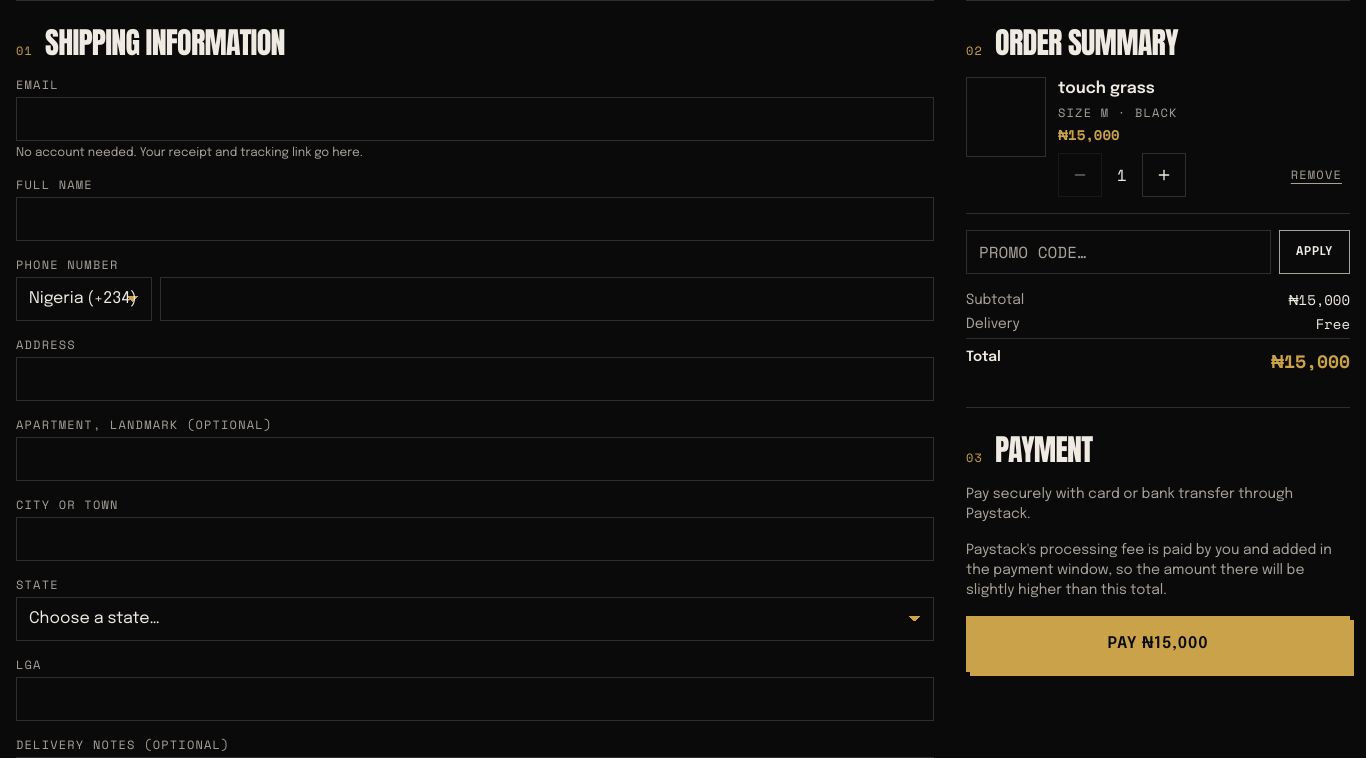
Scenario: CheckoutPage › edits the cart from checkout and re-quotes the total
The image size is (1366, 758).
Step 1. Click the button named "Increase quantity of touch grass" → (1164, 175), box x1=1142 y1=153 x2=1186 y2=197
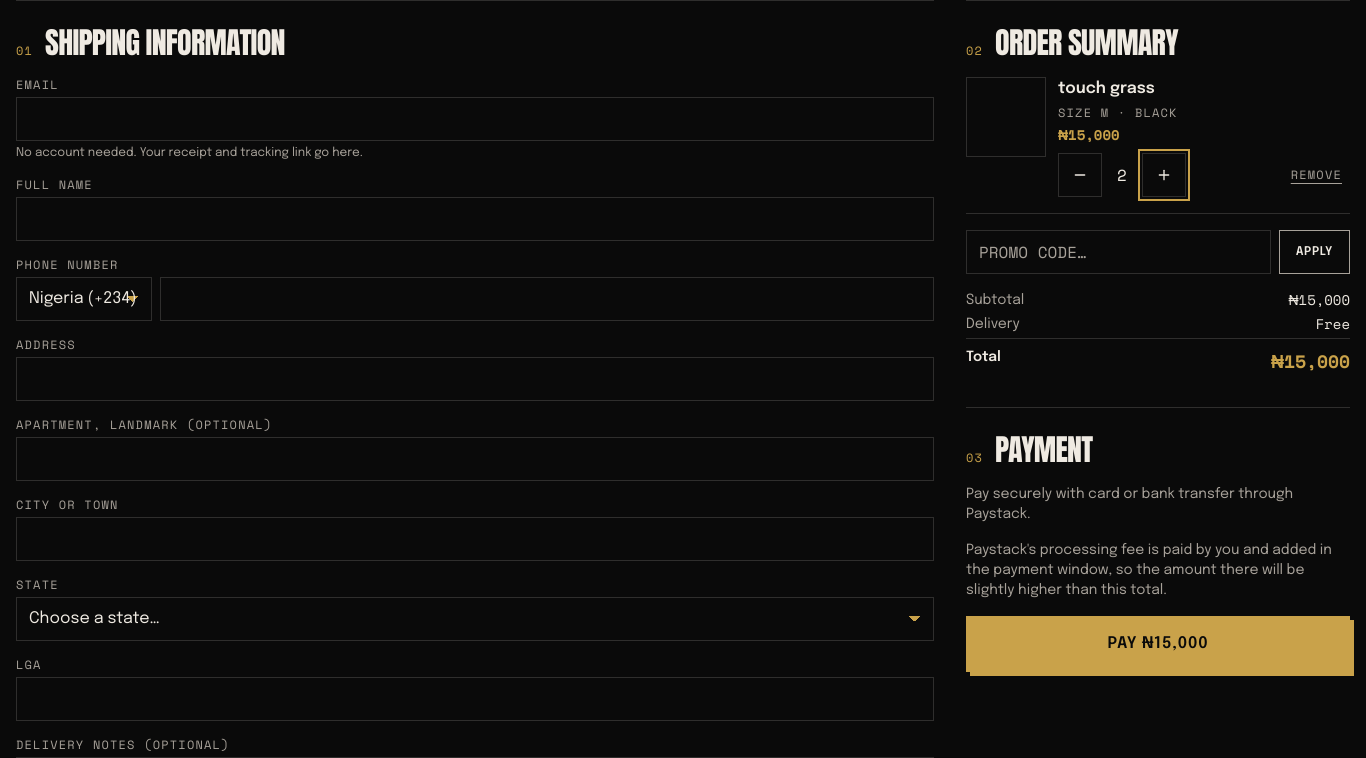
Check: the text named "Quantity of touch grass" reads "2", box x1=1117 y1=163 x2=1127 y2=187
